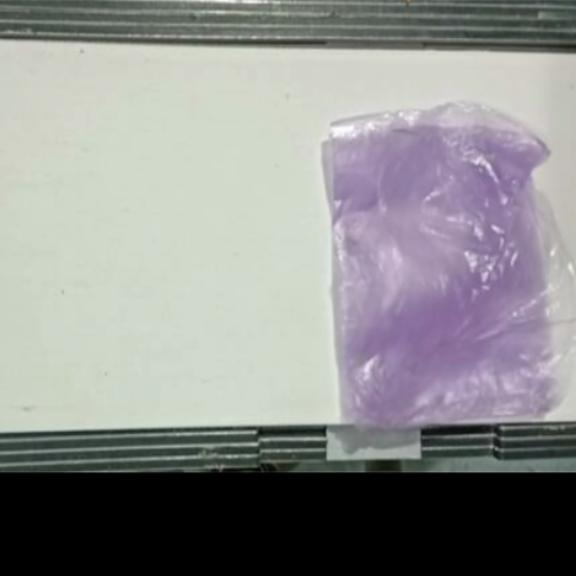Plastik: (328, 104, 576, 435)
